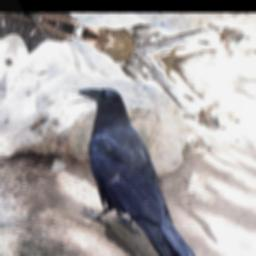Crow: (36, 76, 237, 256)
